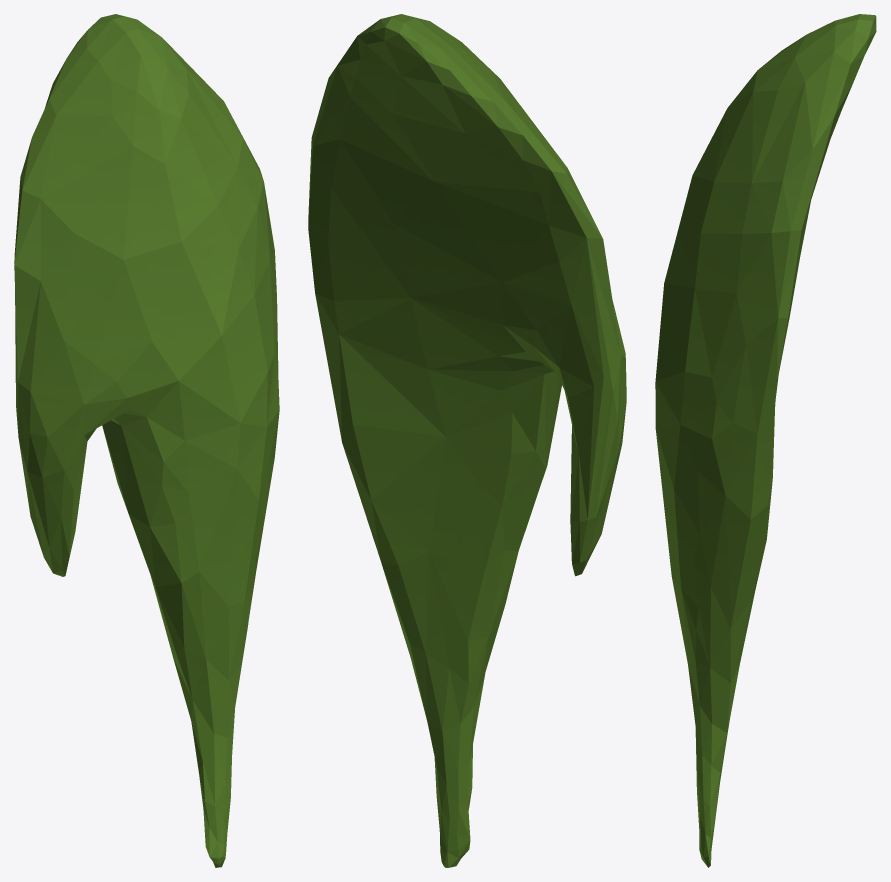
The model's file is Cavern_HangingBush-03.fbx.
3 views of the same model, side by side, from view 1: azimuth 30°, elevation 25°; view 2: azimuth 150°, elevation 25°; view 3: azimuth 270°, elevation 25° (orthographic). The views are drawn at different scales.
Parts seen in each view (by area): view 1: Cavern_HangingBush-03; view 2: Cavern_HangingBush-03; view 3: Cavern_HangingBush-03.
Part boxes in pixels (x1,y1,x2,y2): Cavern_HangingBush-03: [14, 14, 279, 867]; Cavern_HangingBush-03: [308, 14, 626, 867]; Cavern_HangingBush-03: [655, 14, 876, 867].
Size of the model in its own units: 174 by 505 by 121.
1 material, 1 textured.
